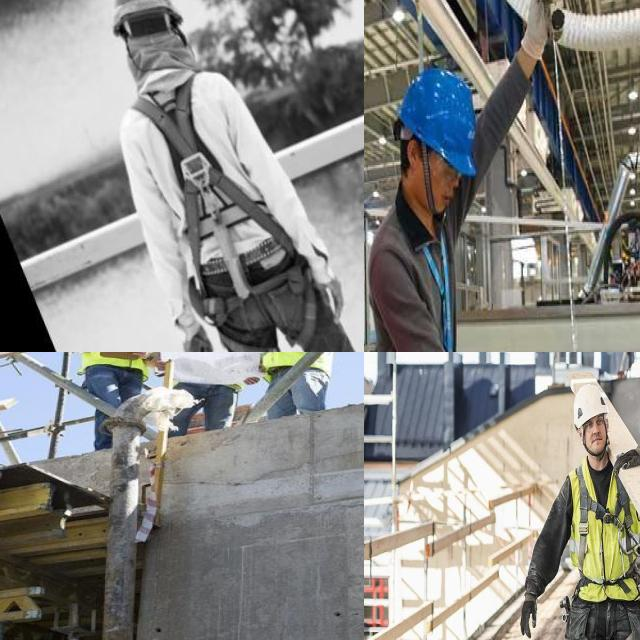Harness: (133, 80, 291, 300)
No_Ear-Protection: (404, 134, 421, 173), (604, 414, 611, 434)
No_Glasses: (581, 416, 608, 432)
face_nomask: (418, 148, 463, 219)
hand_glove: (516, 0, 572, 60)
hand_noglove: (581, 411, 612, 459)
head_helmet: (404, 68, 479, 174), (571, 386, 614, 415)
person: (371, 63, 490, 352), (554, 377, 640, 640), (67, 352, 170, 446), (167, 352, 249, 432), (263, 352, 341, 413)
vest: (571, 467, 640, 606), (174, 352, 249, 391), (263, 352, 326, 371), (91, 352, 153, 371)
